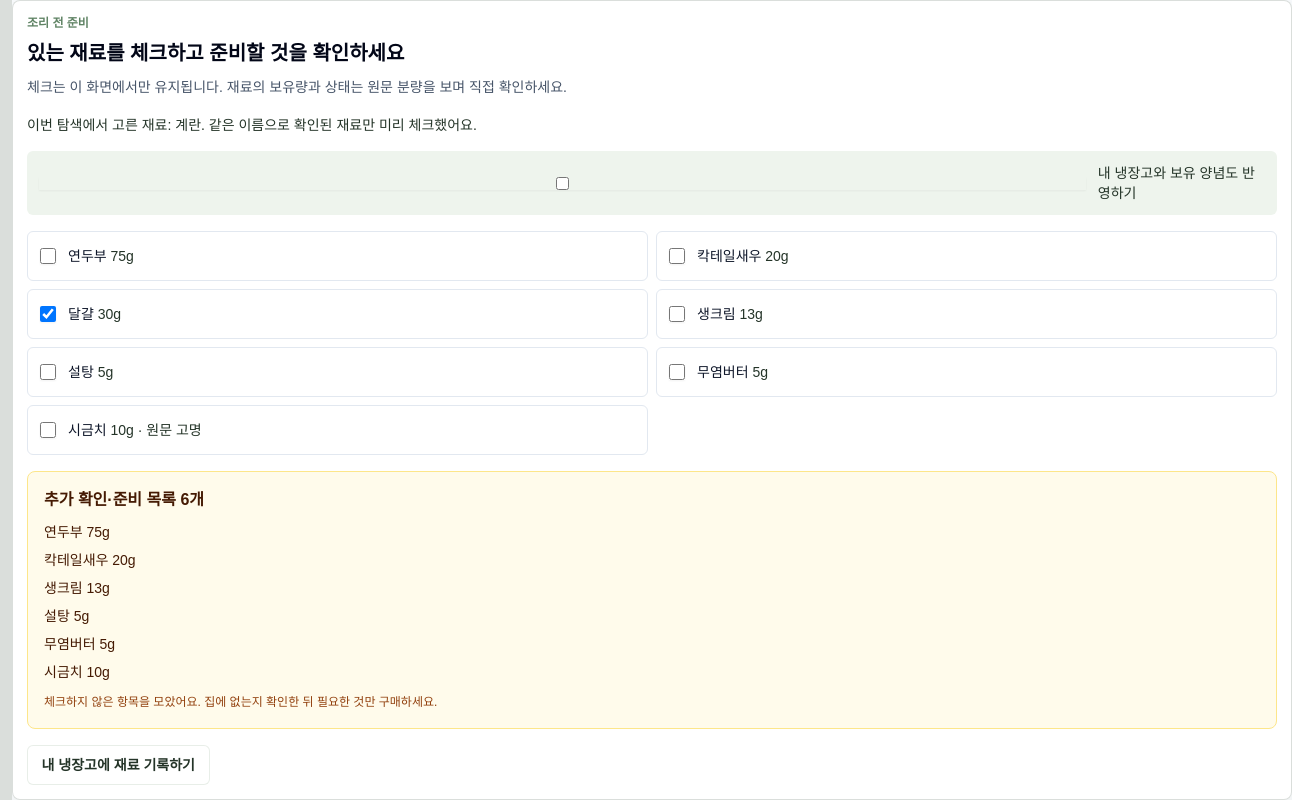
RecipePreparationChecklist › uses saved ingredients and only owned pantry items after explicit opt in
The width and height of the screenshot is (1292, 800).
Check: the checkbox labelled "연두부 75g" is not checked, box left=40, top=248, right=56, bottom=264
Check: the checkbox labelled "설탕 5g" is not checked, box left=40, top=364, right=56, bottom=380
Click the checkbox labelled "내 냉장고와 보유 양념도 반영하기": (562, 183) left=39, top=176, right=1086, bottom=190
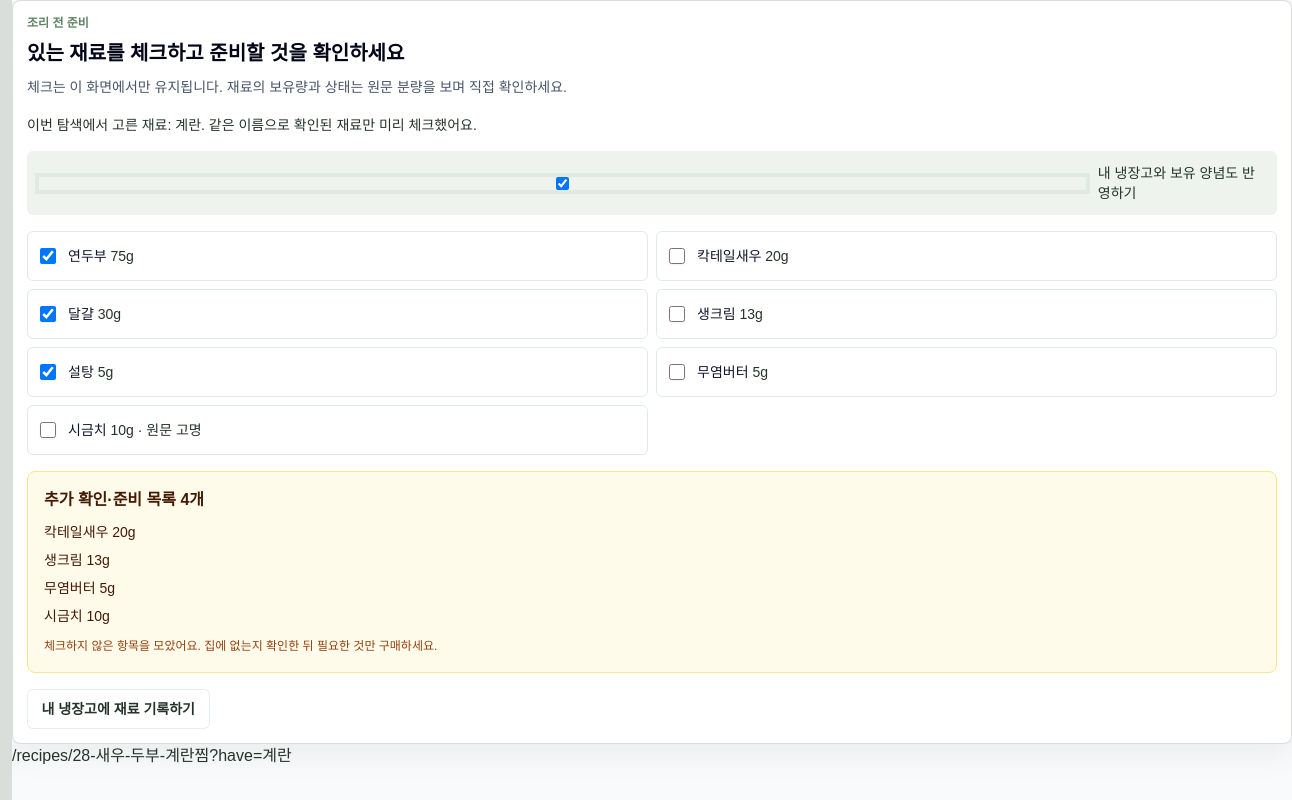
Check: the checkbox labelled "달걀 30g" is checked, box left=40, top=306, right=56, bottom=322
Check: the checkbox labelled "연두부 75g" is checked, box left=40, top=248, right=56, bottom=264
Check: the checkbox labelled "설탕 5g" is checked, box left=40, top=364, right=56, bottom=380
Click the checkbox labelled "내 냉장고와 보유 양념도 반영하기": (562, 183) left=39, top=176, right=1086, bottom=190
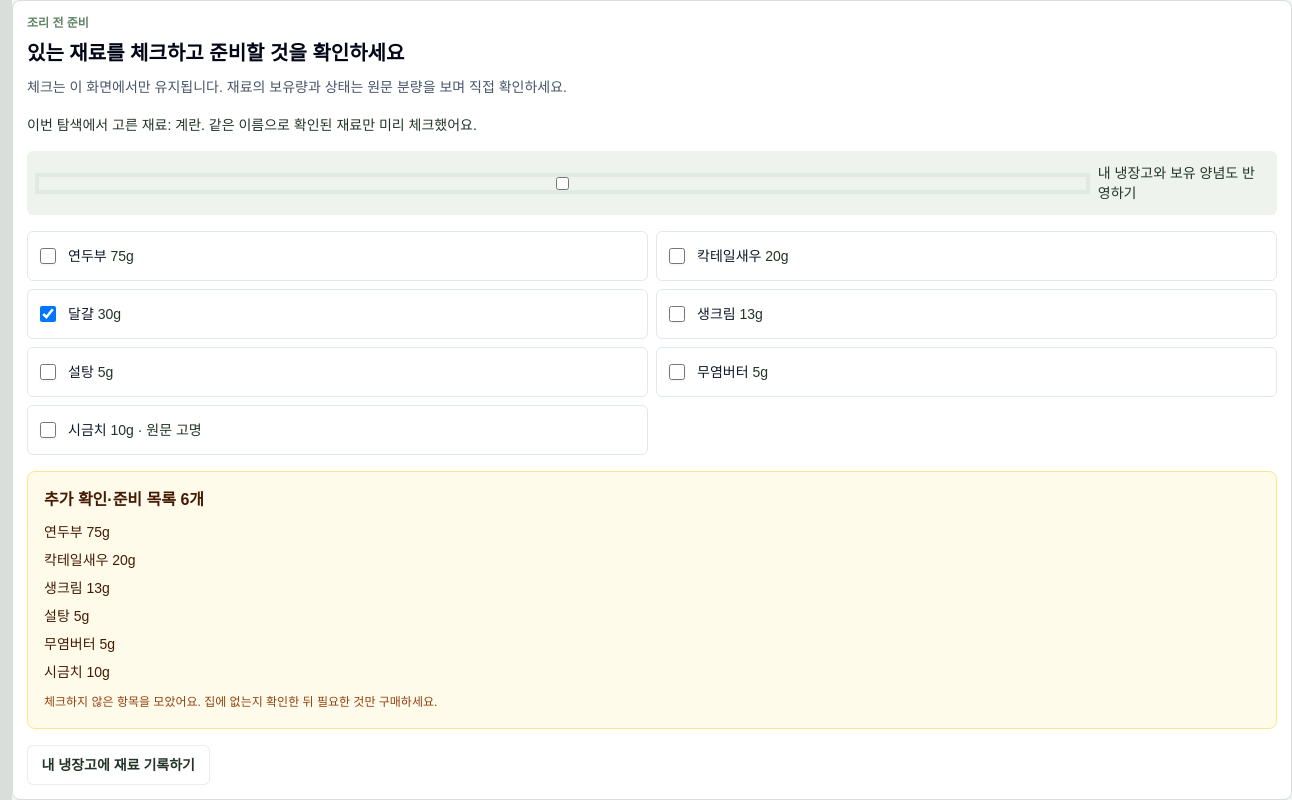
Check: the checkbox labelled "달걀 30g" is checked, box left=40, top=306, right=56, bottom=322
Check: the checkbox labelled "연두부 75g" is not checked, box left=40, top=248, right=56, bottom=264
Check: the checkbox labelled "설탕 5g" is not checked, box left=40, top=364, right=56, bottom=380
